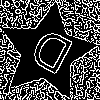D: (22, 27, 76, 85)
